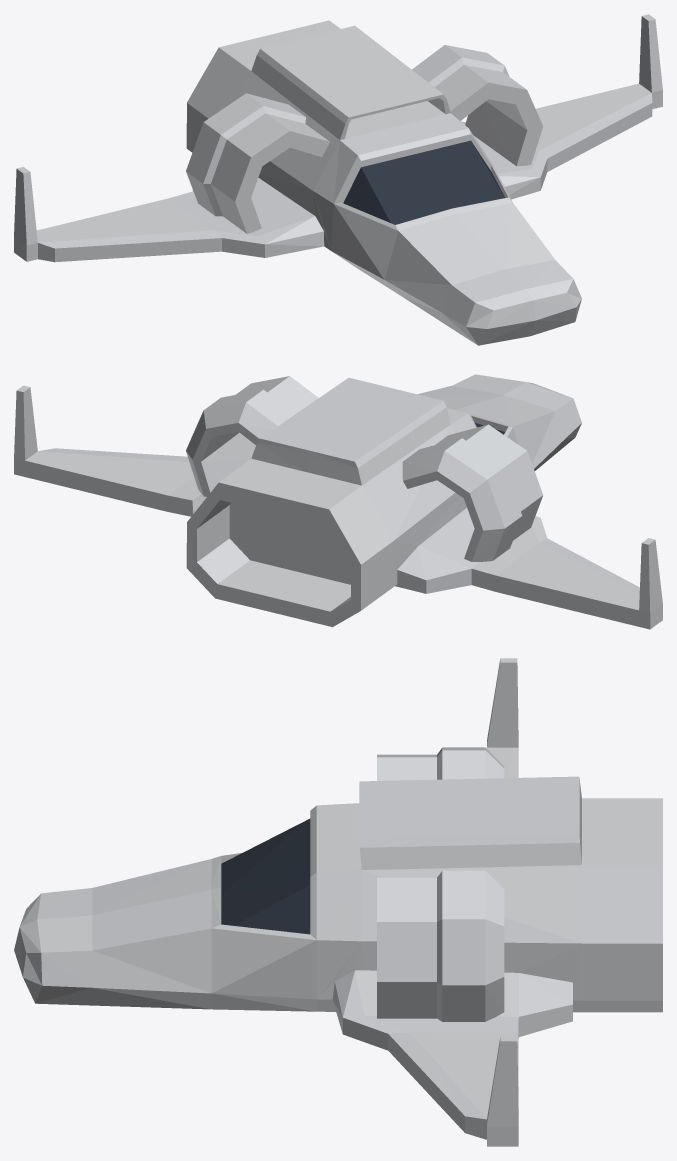
File: ship5.glb
3 renders of one model, top to bottom at view 1: azimuth 30°, elevation 25°; view 2: azimuth 150°, elevation 25°; view 3: azimuth 270°, elevation 25°, orthographic. The views are drawn at different scales.
Parts seen in each view (by area): view 1: ship; view 2: ship; view 3: ship.
Part boxes in pixels (x1,y1,x2,y2): ship: (14,14,662,345); ship: (14,374,662,629); ship: (14,658,662,1146).
Size of the model in its own units: 10.62 by 2.22 by 7.56.
